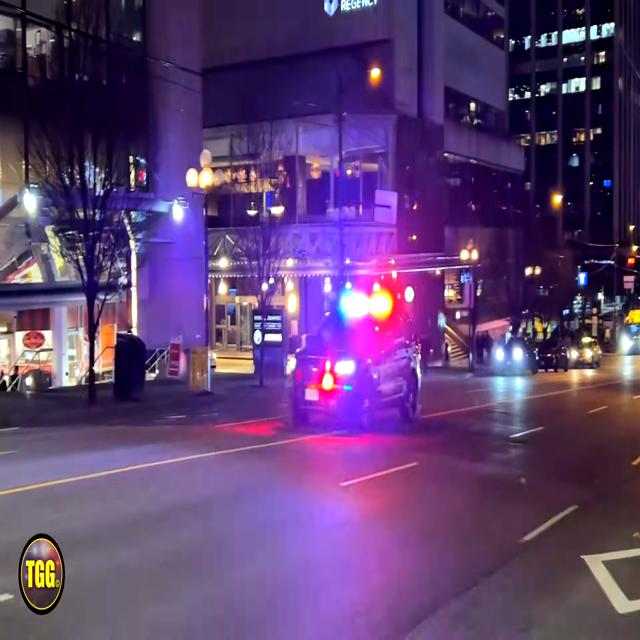emergency-vehicles: (276, 262, 434, 448)
